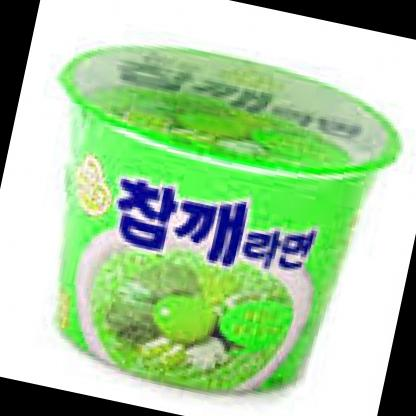Ramen: (1, 30, 411, 416)
